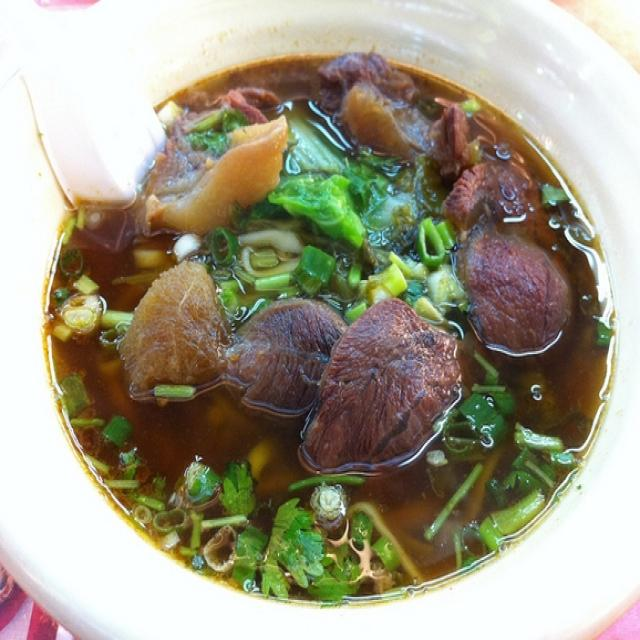面条主食: (23, 34, 618, 615)
